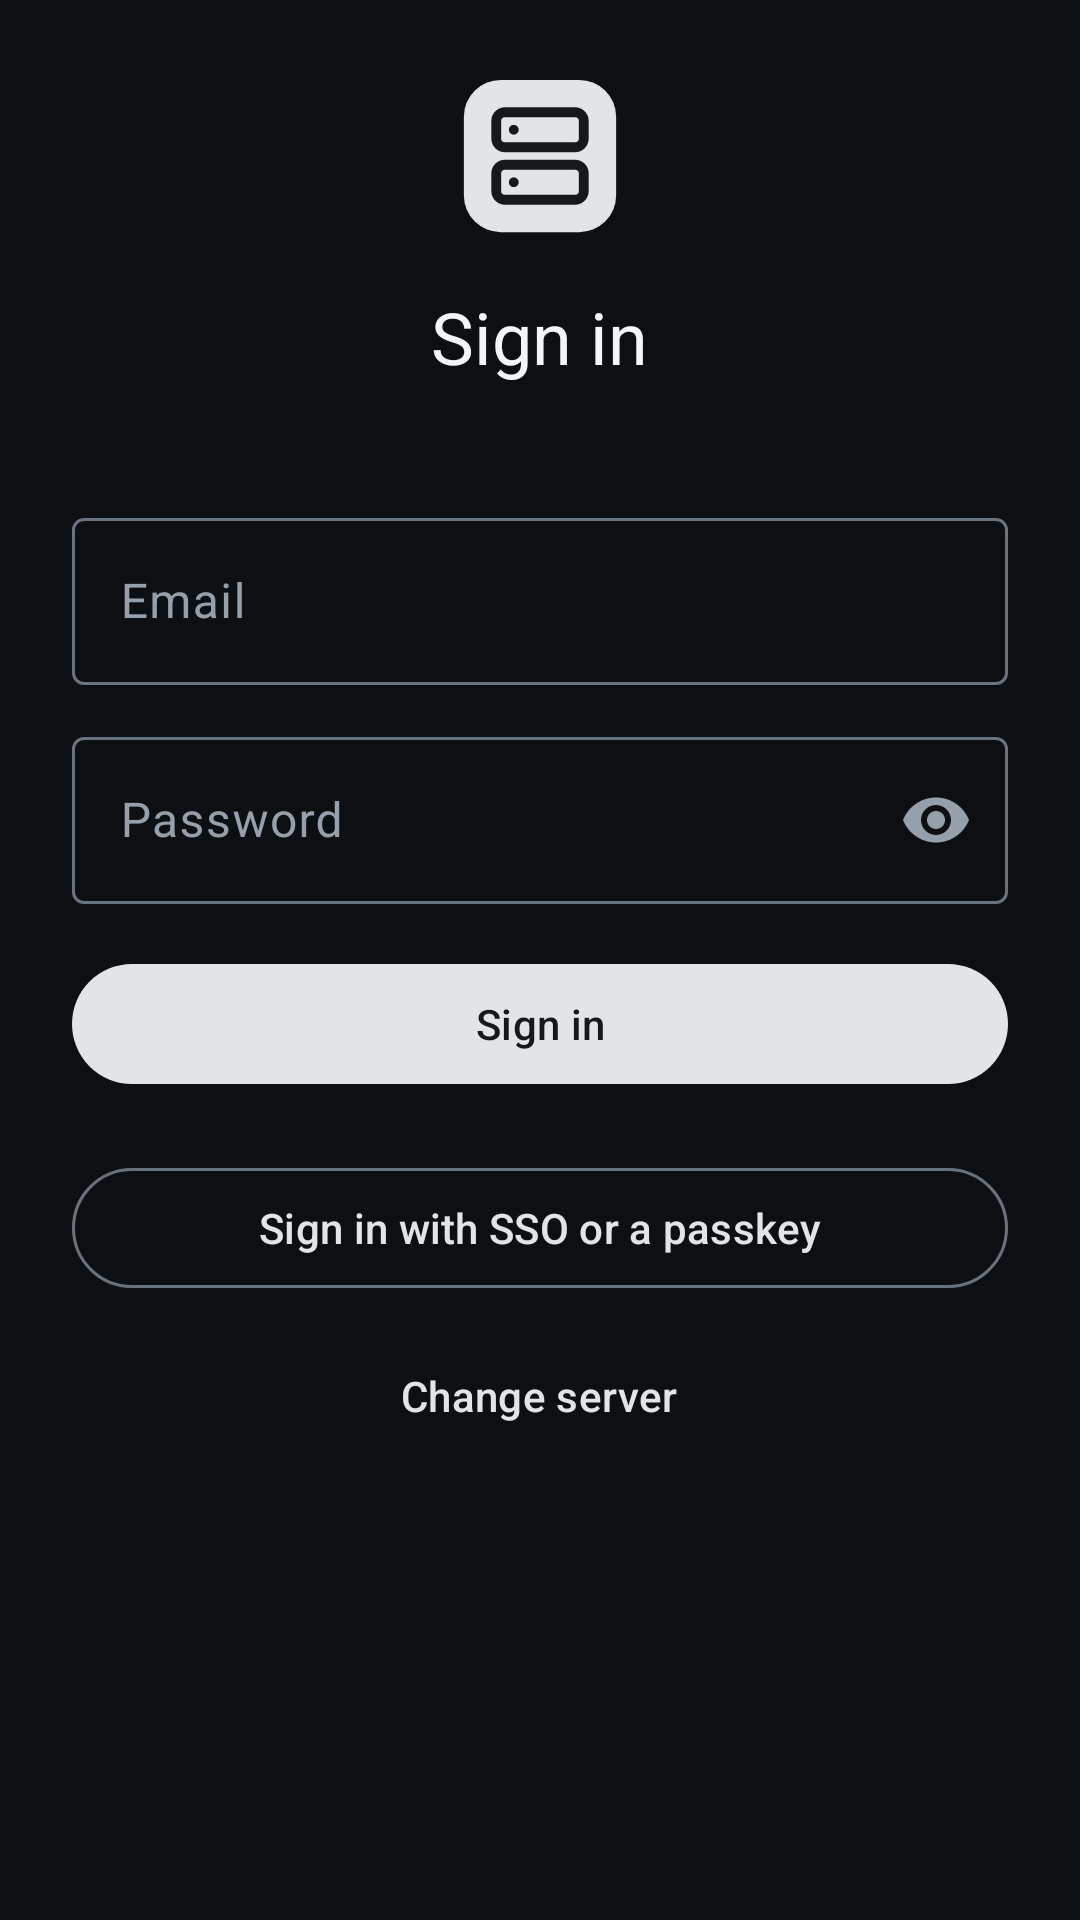

Icons on this 1080 × 1920 Android screen, each with its box as (x1, y1, x2, y2):
brand: (463, 80, 617, 233)
